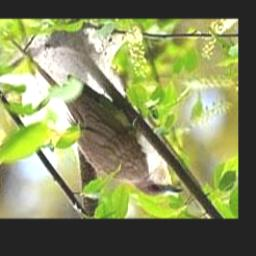Cuckoo: (12, 41, 183, 197)
